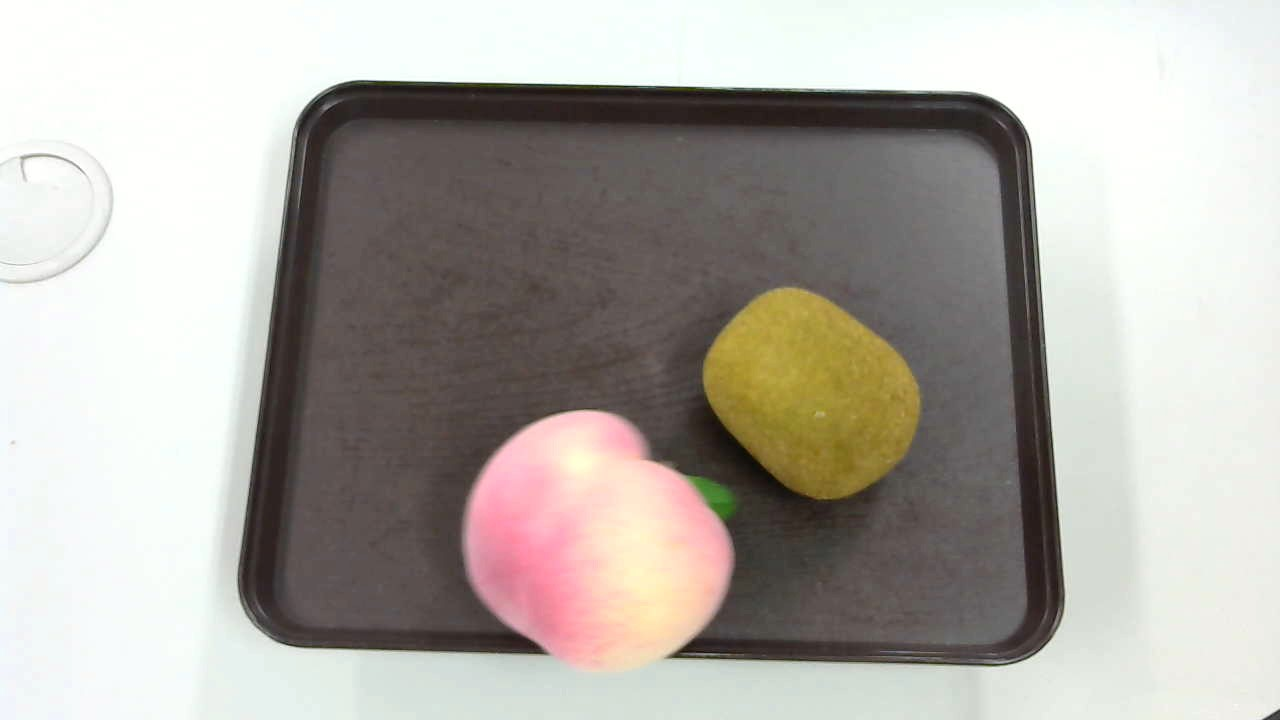kiwi fruit: (695, 283, 928, 504)
peach: (456, 398, 737, 669)
